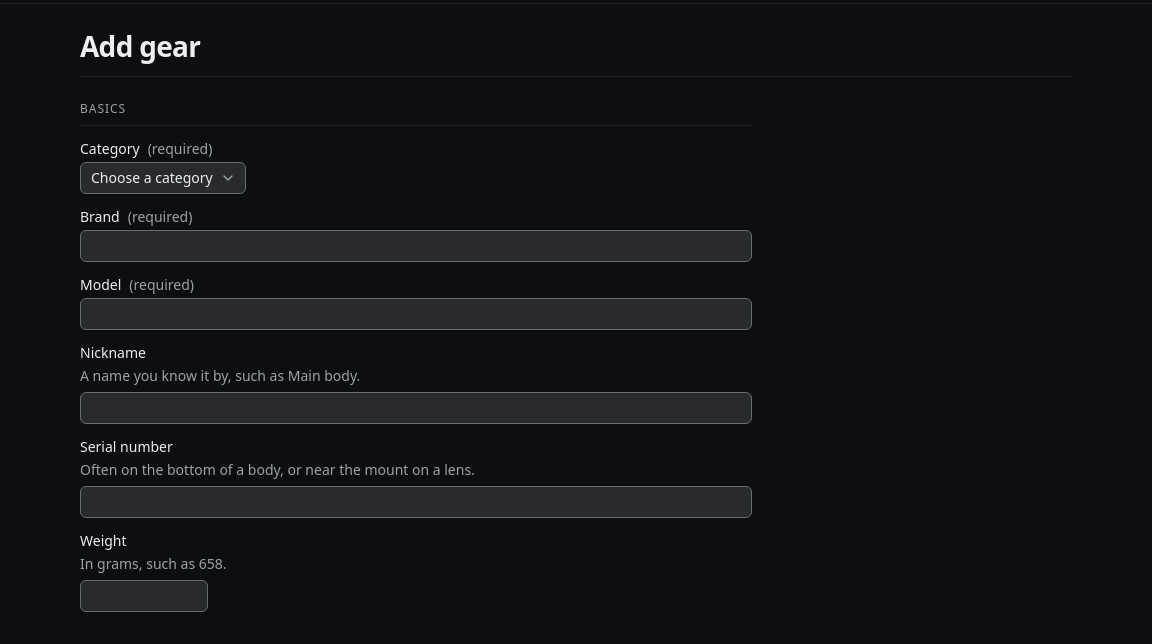
Test: adding gear › shows the spec fields for a Lens
Expected: the heading "Add gear" is shown, [80,28,200,64]
Select "Lens" in the dropdown labelled "Category": {"x": 163, "y": 178} [80,162,246,194]
(page scrolled)
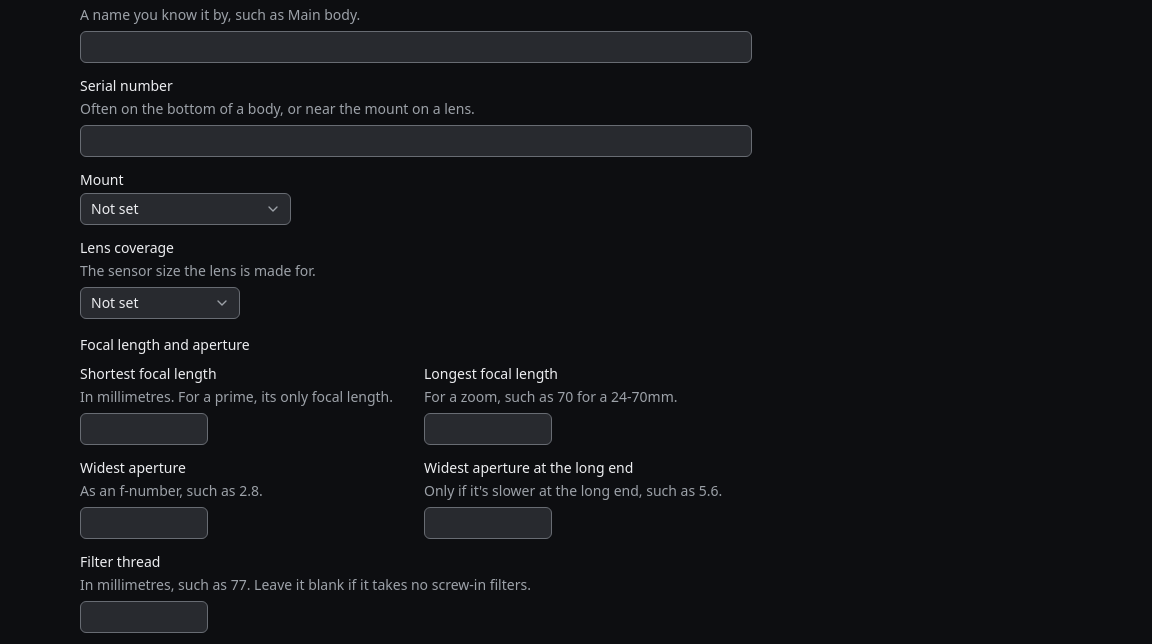
Expected: the dropdown labelled "Mount" is shown, [80,193,291,225]
Expected: the dropdown labelled "Lens coverage" is shown, [80,287,240,319]
